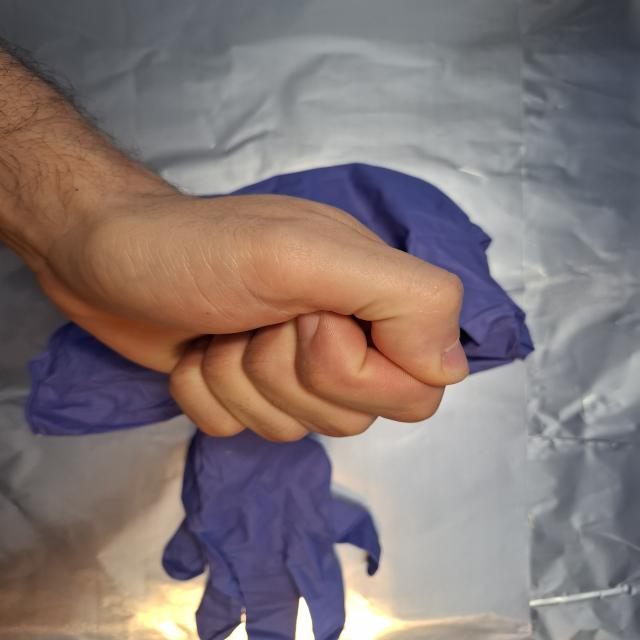glove_off: (30, 169, 476, 445)
